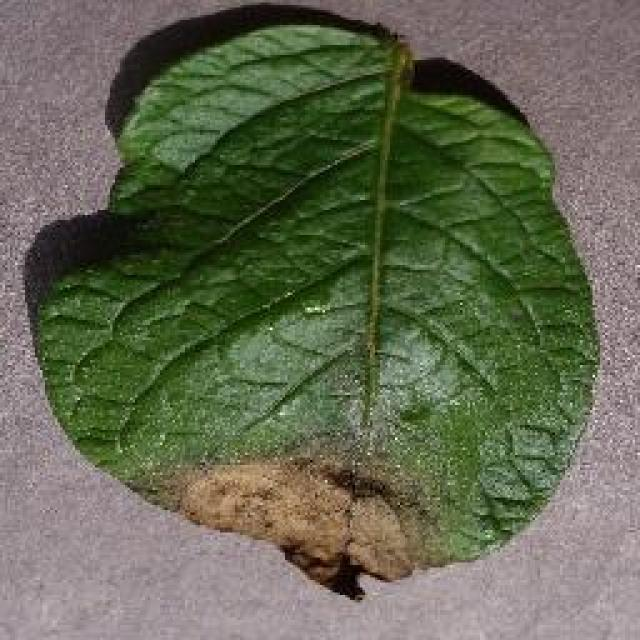Potato___Late_blight: (28, 19, 605, 614)
